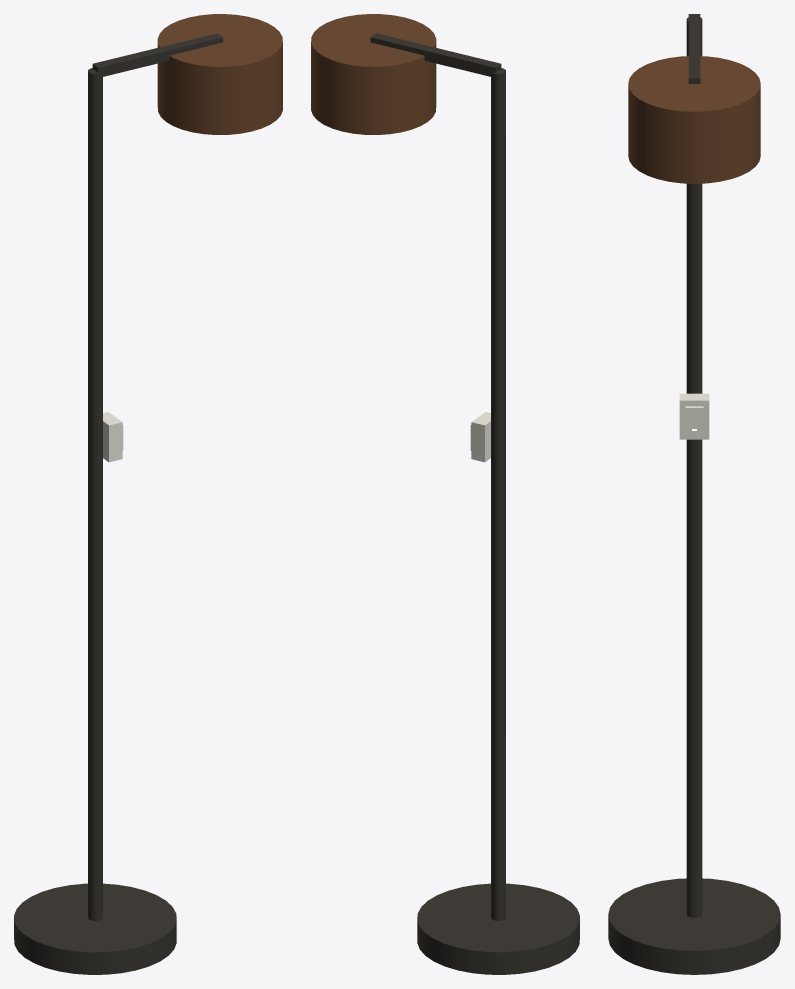
Rendered from light-floor-reading-lamp.gltf.
The picture shows the model from 3 angles, left to right: view 1: azimuth 30°, elevation 25°; view 2: azimuth 150°, elevation 25°; view 3: azimuth 270°, elevation 25°; orthographic projection. The views are drawn at different scales.
Visible parts, largest first — view 1: Reading lamp shade, Reading lamp stem, Reading lamp weighted base, Reading lamp arm, Floor reading lamp local switch faceplate; view 2: Reading lamp shade, Reading lamp stem, Reading lamp weighted base, Reading lamp arm, Floor reading lamp local switch faceplate; view 3: Reading lamp shade, Reading lamp weighted base, Reading lamp stem, Floor reading lamp local switch faceplate, Reading lamp arm, Floor reading lamp local switch rocker 0.
Boxes of the visible parts, left/top/right/bottom form: Reading lamp shade: left=157, top=14, right=282, bottom=134; Reading lamp stem: left=88, top=68, right=102, bottom=920; Reading lamp weighted base: left=14, top=883, right=176, bottom=974; Reading lamp arm: left=92, top=33, right=223, bottom=76; Floor reading lamp local switch faceplate: left=103, top=412, right=122, bottom=462; Reading lamp shade: left=311, top=14, right=436, bottom=134; Reading lamp stem: left=491, top=68, right=505, bottom=920; Reading lamp weighted base: left=417, top=883, right=579, bottom=974; Reading lamp arm: left=370, top=33, right=501, bottom=76; Floor reading lamp local switch faceplate: left=471, top=412, right=490, bottom=462; Reading lamp shade: left=628, top=56, right=760, bottom=183; Reading lamp weighted base: left=608, top=878, right=780, bottom=974; Reading lamp stem: left=686, top=17, right=702, bottom=917; Floor reading lamp local switch faceplate: left=679, top=393, right=709, bottom=439; Reading lamp arm: left=688, top=14, right=700, bottom=83; Floor reading lamp local switch rocker 0: left=685, top=406, right=703, bottom=435.
Bounding box in the file's own units: 0.46 × 1.54 × 0.26.
